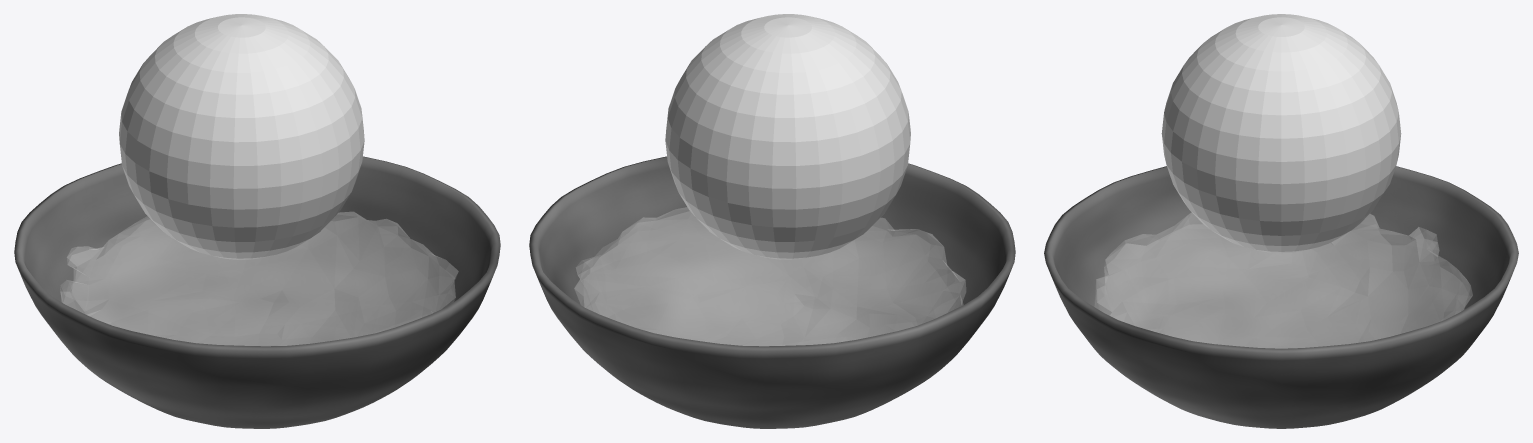
Rendered from bowl.glb.
The picture shows the model from 3 angles, left to right: view 1: azimuth 30°, elevation 25°; view 2: azimuth 150°, elevation 25°; view 3: azimuth 270°, elevation 25°; orthographic projection. The views are drawn at different scales.
Parts seen in each view (by area): view 1: RealBowl, Flow, Domain; view 2: RealBowl, Flow, Domain; view 3: RealBowl, Flow, Domain.
Part boxes in pixels (box(x1,y1,x2,y2)): RealBowl: box(14, 156, 500, 428); Flow: box(119, 14, 364, 259); Domain: box(60, 212, 458, 345); RealBowl: box(529, 156, 1015, 428); Flow: box(665, 14, 910, 259); Domain: box(574, 207, 965, 345); RealBowl: box(1044, 166, 1518, 428); Flow: box(1161, 14, 1401, 253); Domain: box(1094, 212, 1472, 348).
Size of the model in its own units: 1.98 by 1.72 by 1.98.
2 materials, 1 textured.
